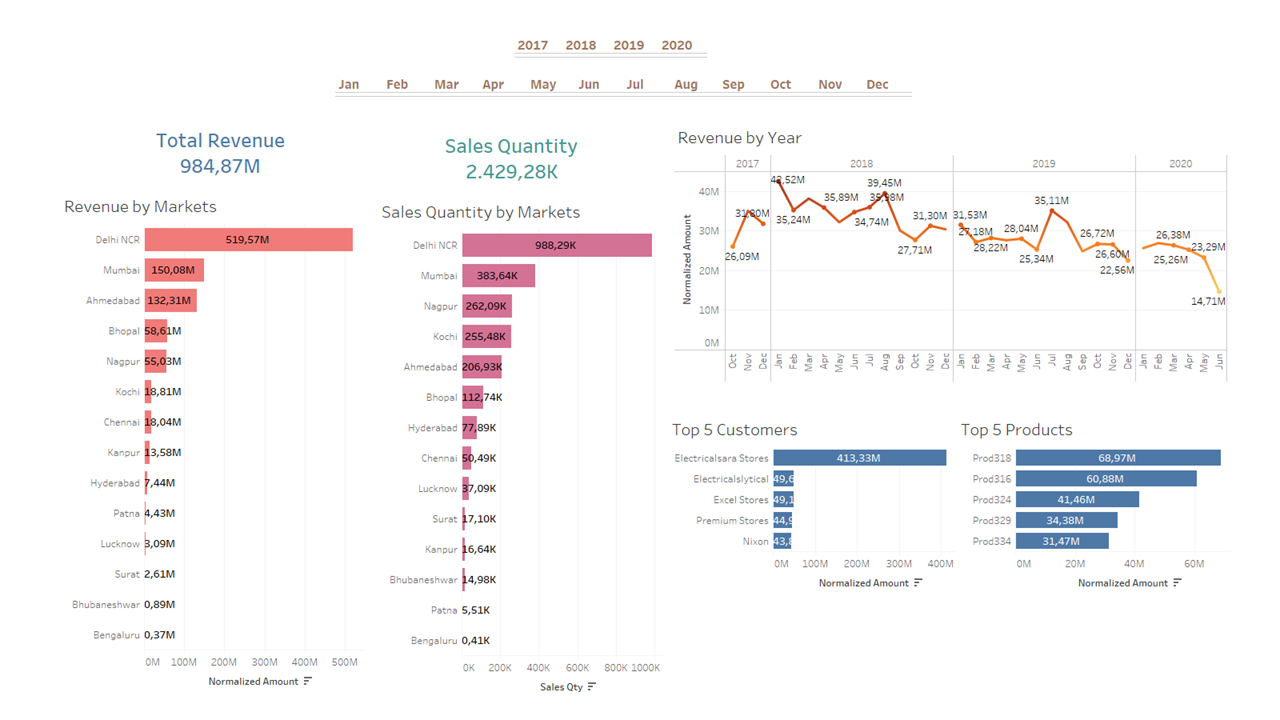

The page's visual inventory and layout, read from the dashboard file:
{"tool":"tableau","page":{"name":"Dashboard - Revenue Analysis","canvas":[1500,900],"ordinal":1},"visuals":[{"type":"worksheet","title":"Year","mark":"Automatic","cols":["cy_date"],"box":[593,30,260,47]},{"type":"worksheet","title":"Month","mark":"Automatic","cols":["cy_date"],"box":[369,79,744,57]},{"type":"worksheet","title":"Revenue","mark":"Automatic","box":[136,143,201,98]},{"type":"worksheet","title":"Quantity","mark":"Automatic","box":[500,150,187,105]},{"type":"worksheet","title":"Revenue by Year","mark":"Automatic","rows":["Calculation_1449596146905944064"],"cols":["cy_date","cy_date"],"box":[793,151,691,327]},{"type":"worksheet","title":"Revenue by Markets","mark":"Automatic","rows":["markets_name"],"cols":["Calculation_1449596146905944064"],"box":[26,237,378,634]},{"type":"worksheet","title":"Sales Quantity by Markets","mark":"Automatic","rows":["markets_name"],"cols":["sales_qty"],"box":[423,244,354,632]},{"type":"worksheet","title":"Top 5 Customers","mark":"Automatic","rows":["custmer_name"],"cols":["Calculation_1449596146905944064"],"box":[786,516,358,230]},{"type":"worksheet","title":"Top 5 Products","mark":"Automatic","rows":["product_code"],"cols":["Calculation_1449596146905944064"],"box":[1147,516,342,235]}]}

Visuals, with their boxes on the page's 1500x900 design canvas (x1, y1, x2, y2). These are canvas units, not pixel positions in the 1280x720 screenshot, which may show the page scaled, cropped or inside an application window:
"Year" worksheet: locate(593, 30, 853, 77)
"Month" worksheet: locate(369, 79, 1113, 136)
"Revenue" worksheet: locate(136, 143, 337, 241)
"Quantity" worksheet: locate(500, 150, 687, 255)
"Revenue by Year" worksheet: locate(793, 151, 1484, 478)
"Revenue by Markets" worksheet: locate(26, 237, 404, 871)
"Sales Quantity by Markets" worksheet: locate(423, 244, 777, 876)
"Top 5 Customers" worksheet: locate(786, 516, 1144, 746)
"Top 5 Products" worksheet: locate(1147, 516, 1489, 751)
